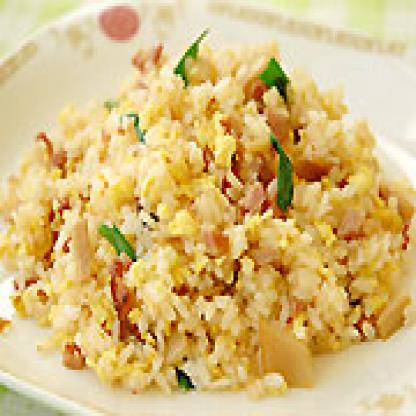fried rice: (0, 46, 407, 388)
